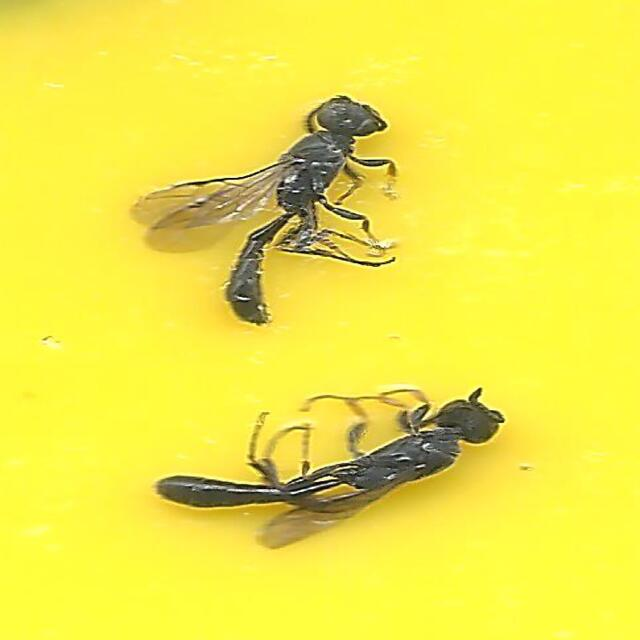Hymenoptera: (132, 91, 402, 328), (156, 383, 508, 549)
